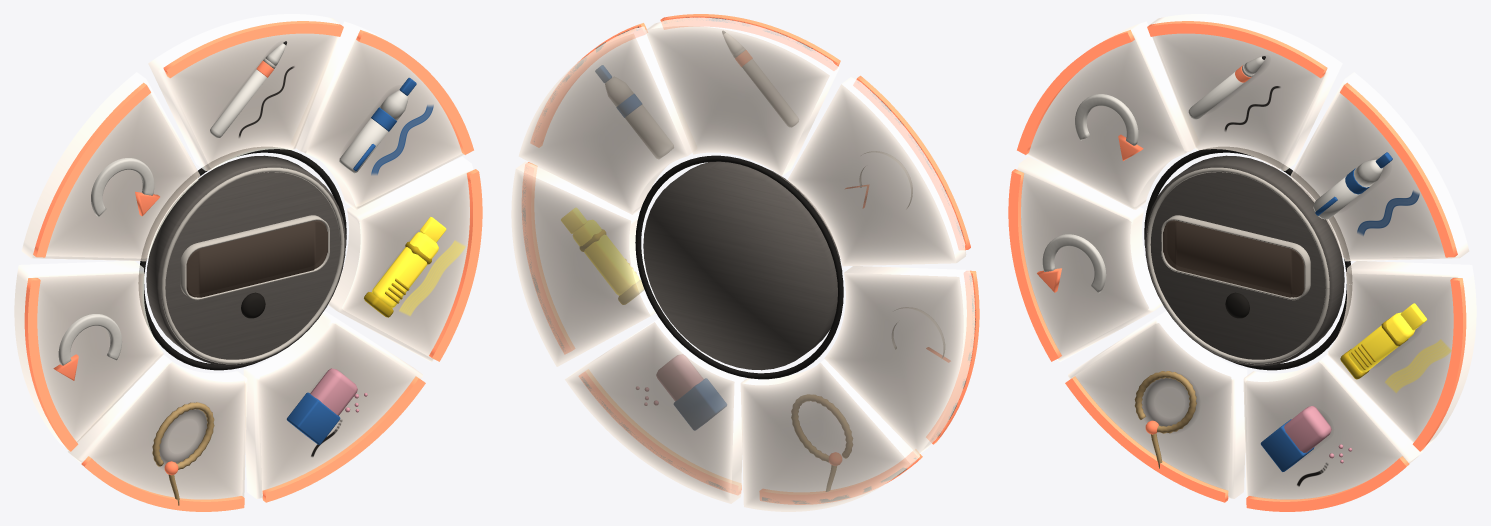
Rendered from tool-wheel.glb.
3 views of the same model, side by side, from view 1: azimuth 30°, elevation 25°; view 2: azimuth 150°, elevation 25°; view 3: azimuth 330°, elevation 25° (orthographic).
Visible parts, largest first — view 1: Hub, Wedge-lasso, Wedge-undo, Wedge-pen, Wedge-redo, Wedge-eraser, Wedge-highlighter, Wedge-marker, LabelPlaque, Groove, HubRing, ActiveRim-redo (+18 smaller); view 2: Hub, Wedge-redo, Wedge-pen, Wedge-undo, Wedge-highlighter, Wedge-lasso, Wedge-eraser, Wedge-marker, Groove, ActiveRim-redo, ActiveRim-eraser, ActiveRim-highlighter (+10 smaller); view 3: Hub, Wedge-lasso, Wedge-undo, Wedge-pen, Wedge-redo, Wedge-marker, Wedge-eraser, Wedge-highlighter, LabelPlaque, HubRing, Groove, ActiveRim-marker (+18 smaller).
Part boxes in pixels (x1,y1,x2,y2): Hub: (146, 155, 345, 366); Wedge-lasso: (68, 351, 247, 499); Wedge-undo: (14, 261, 163, 447); Wedge-pen: (148, 14, 342, 170); Wedge-redo: (21, 72, 200, 261); Wedge-eraser: (243, 310, 422, 498); Wedge-highlighter: (328, 156, 473, 361); Wedge-marker: (291, 21, 463, 209); LabelPlaque: (186, 220, 327, 297); Groove: (138, 147, 346, 370); HubRing: (161, 167, 344, 364); ActiveRim-redo: (33, 82, 150, 257); Hub: (643, 161, 842, 370); Wedge-redo: (787, 77, 966, 266); Wedge-pen: (645, 17, 839, 175); Wedge-undo: (824, 266, 974, 455); Wedge-highlighter: (511, 161, 660, 366); Wedge-lasso: (740, 356, 919, 511); Wedge-eraser: (565, 315, 744, 503); Wedge-marker: (518, 26, 696, 214); Groove: (635, 155, 843, 379); ActiveRim-redo: (853, 75, 970, 250); ActiveRim-eraser: (579, 369, 741, 494); ActiveRim-highlighter: (522, 162, 574, 354); Hub: (1145, 155, 1344, 366); Wedge-lasso: (1068, 310, 1247, 498); Wedge-undo: (1017, 156, 1162, 361); Wedge-pen: (1148, 14, 1342, 170); Wedge-redo: (1027, 21, 1199, 209); Wedge-marker: (1290, 72, 1469, 261); Wedge-eraser: (1243, 351, 1422, 499); Wedge-highlighter: (1327, 261, 1476, 447); LabelPlaque: (1163, 220, 1304, 297); HubRing: (1146, 167, 1329, 364); Groove: (1144, 147, 1352, 370); ActiveRim-marker: (1340, 82, 1457, 257).
Bounding box in the file's own units: 0.193 × 0.1929 × 0.0182.
Materials: 22 (7 with a texture image).
